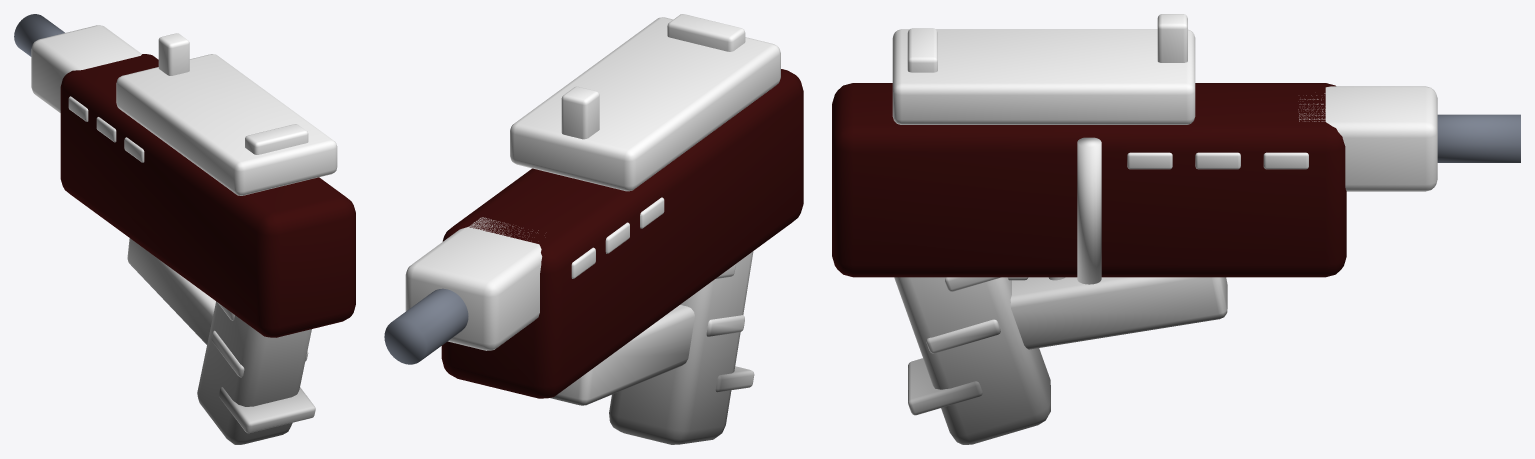
The model's file is nail-gun-first-person.obj.
3 renders of one model, left to right at view 1: azimuth 30°, elevation 25°; view 2: azimuth 150°, elevation 25°; view 3: azimuth 270°, elevation 25°, orthographic. The views are drawn at different scales.
Visible parts, largest first — view 1: nail-gun-first-person; view 2: nail-gun-first-person; view 3: nail-gun-first-person.
Boxes of the visible parts, x1=… form: nail-gun-first-person: x1=14, y1=14, x2=355, y2=444; nail-gun-first-person: x1=384, y1=14, x2=803, y2=444; nail-gun-first-person: x1=832, y1=14, x2=1520, y2=444.
Size of the model in its own units: 0.1035 by 0.301 by 0.455.
